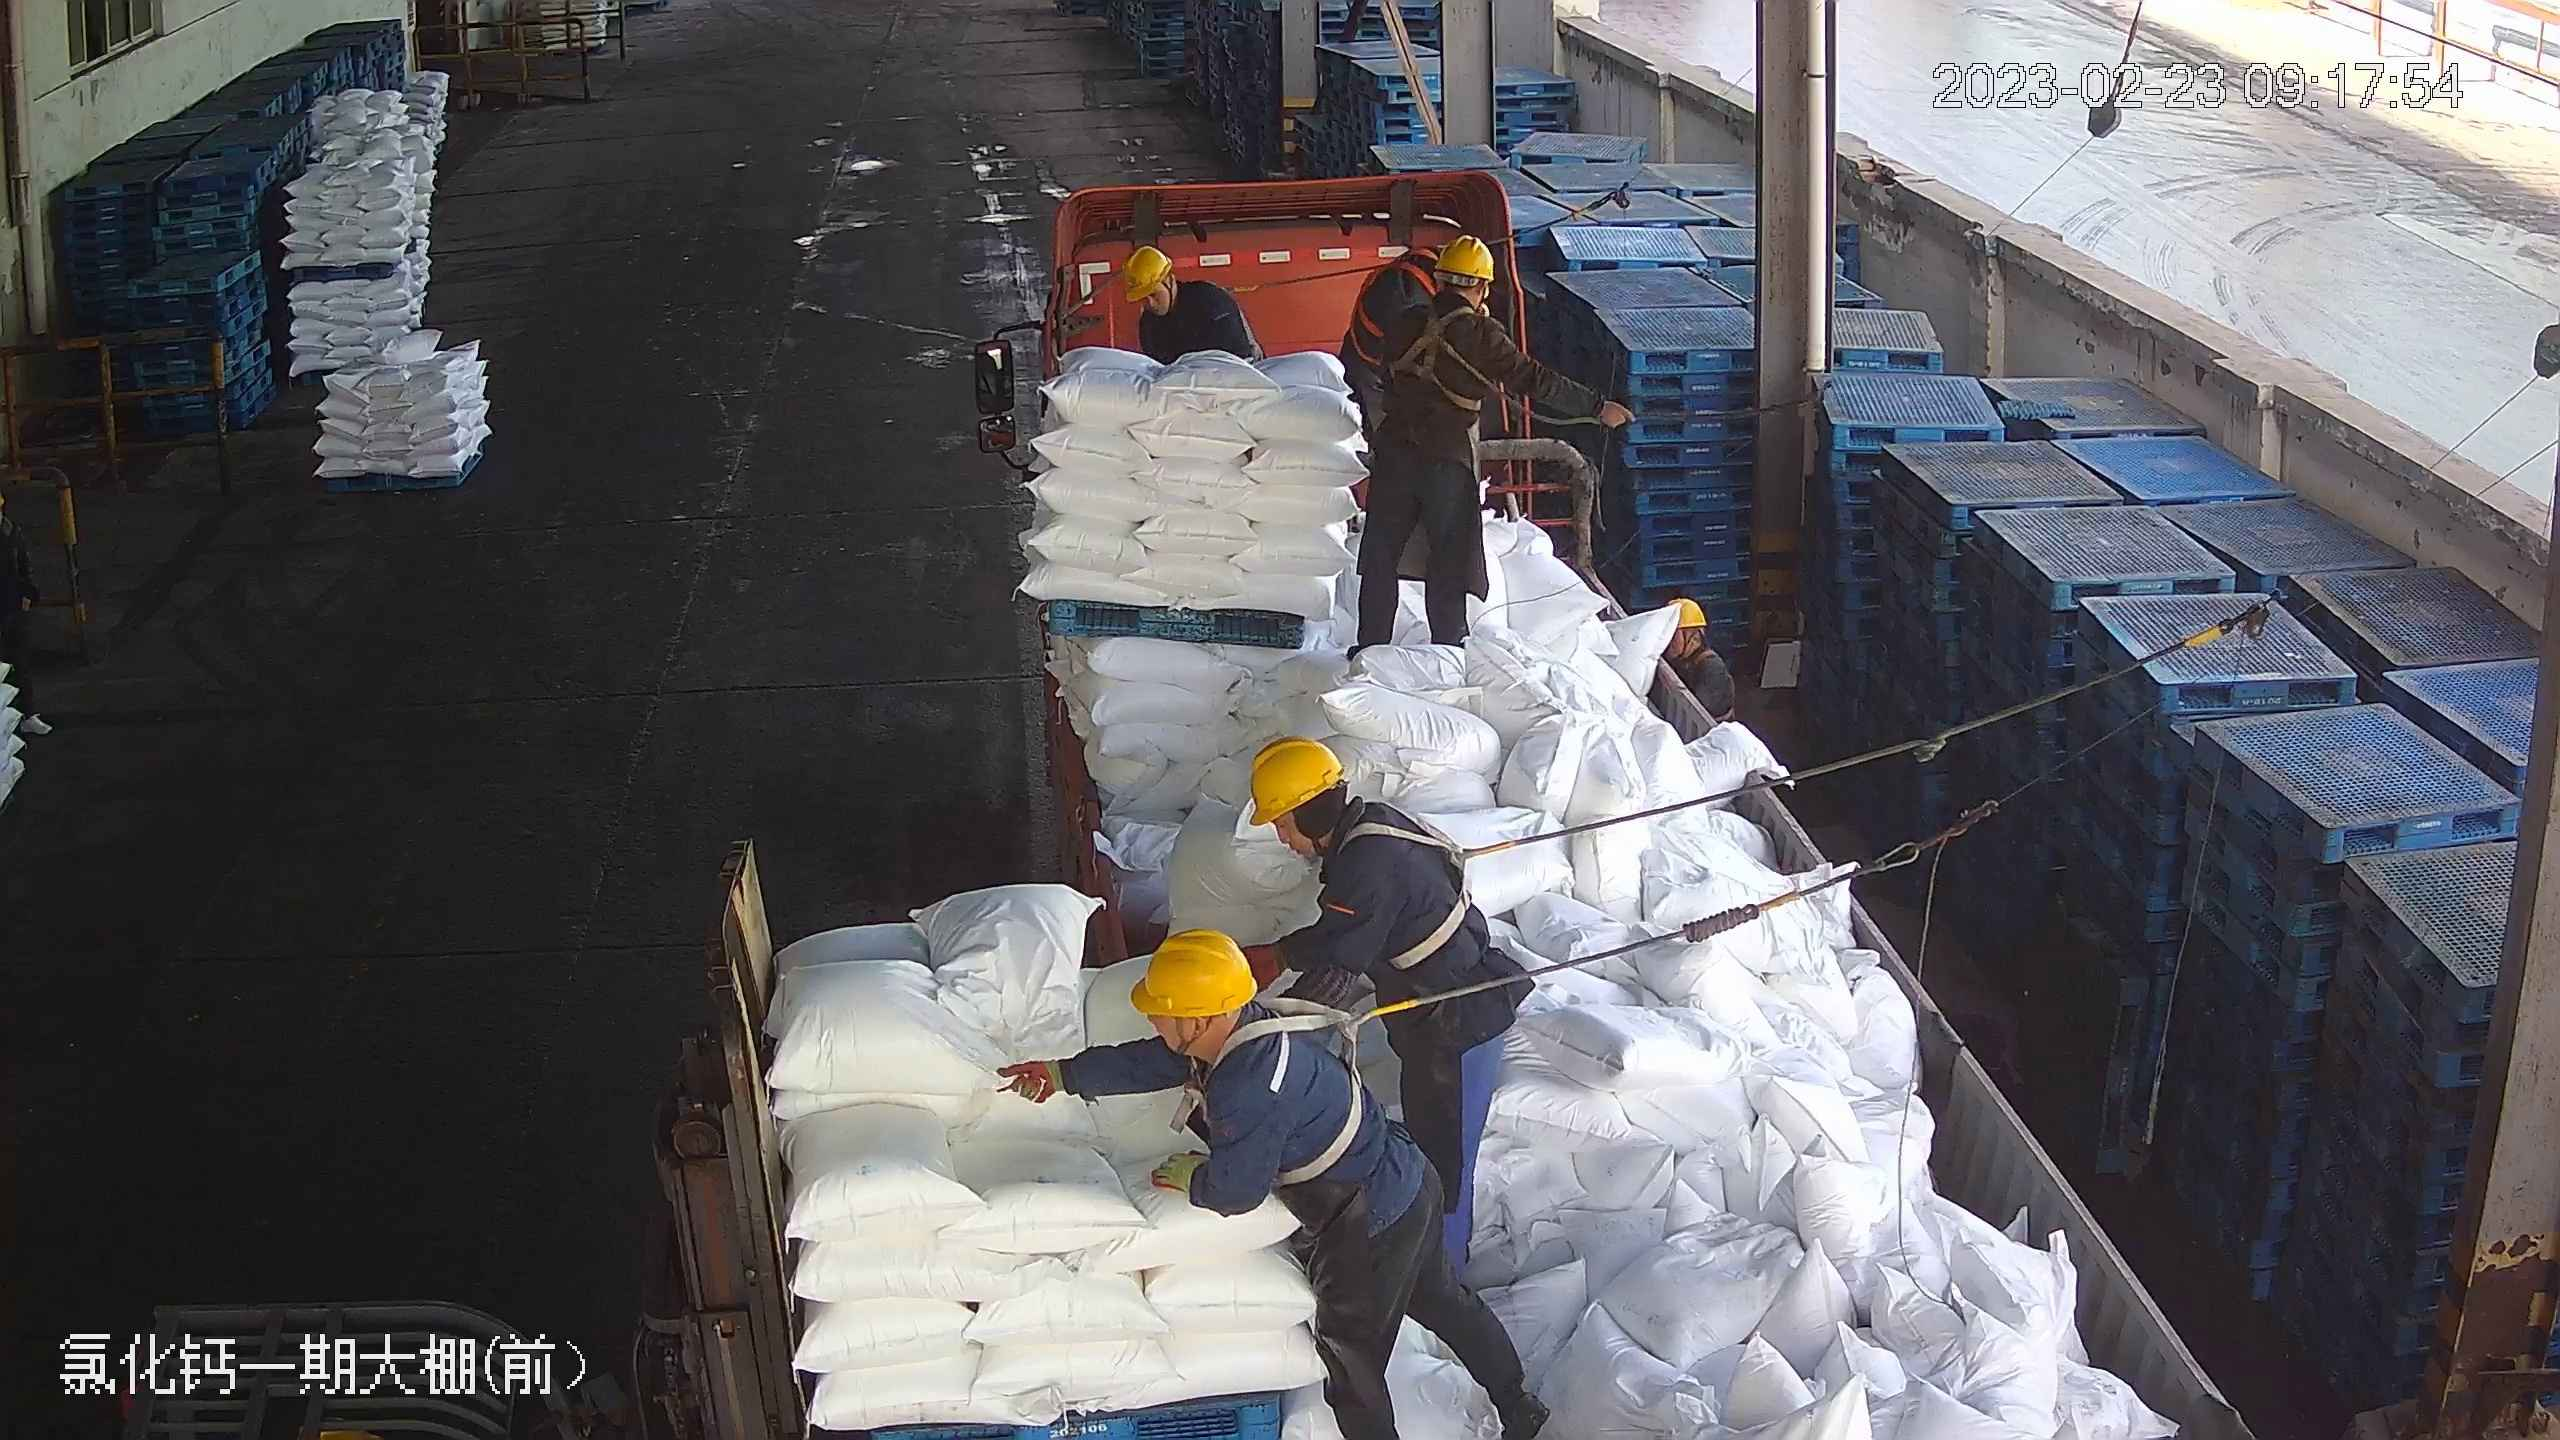belt: (1217, 1009, 1402, 1193), (1343, 803, 1508, 965), (1391, 301, 1486, 405), (1351, 263, 1433, 356), (1210, 273, 1271, 307), (1679, 644, 1719, 673)
head: (1127, 926, 1303, 1127), (1239, 738, 1438, 911), (1406, 238, 1513, 364), (1115, 244, 1225, 332)
helmet: (1127, 926, 1301, 1117), (1130, 925, 1257, 1015), (1244, 736, 1344, 823), (1115, 243, 1171, 298), (1438, 235, 1498, 280), (1668, 598, 1708, 629)
people: (1034, 932, 1547, 1440), (1237, 738, 1530, 1303), (1353, 236, 1591, 659)
truck: (977, 190, 2269, 1423)
